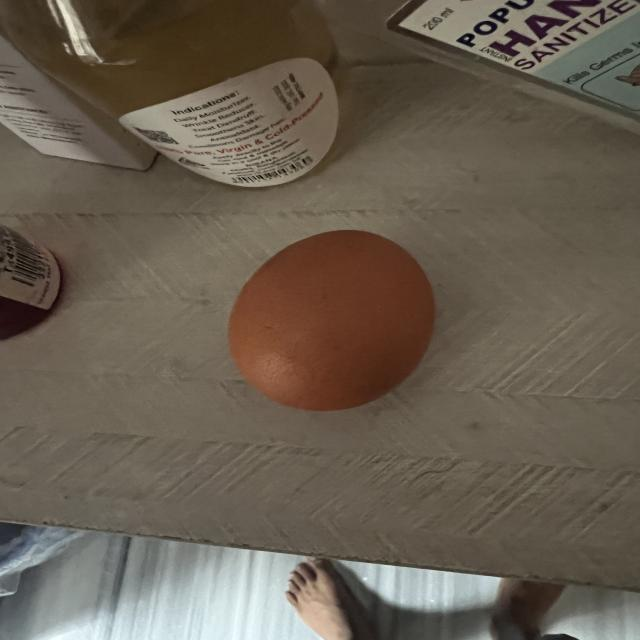Egg: (219, 220, 442, 413)
